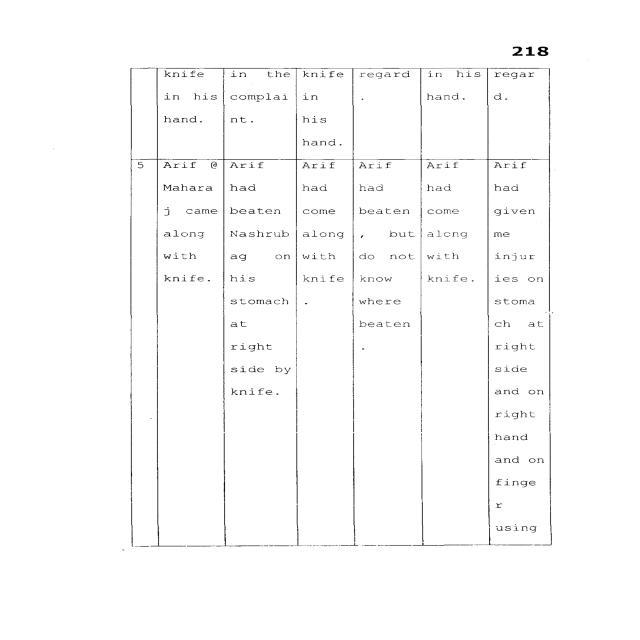page-number: (428, 0, 634, 62)
